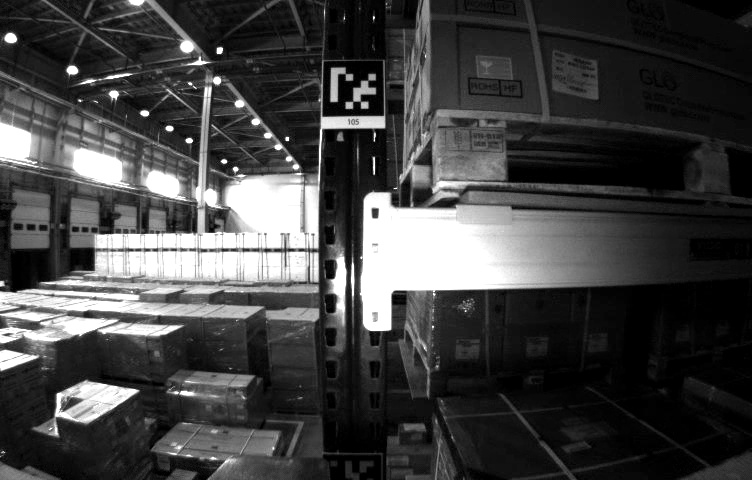True Barcode: (546, 48, 604, 103)
